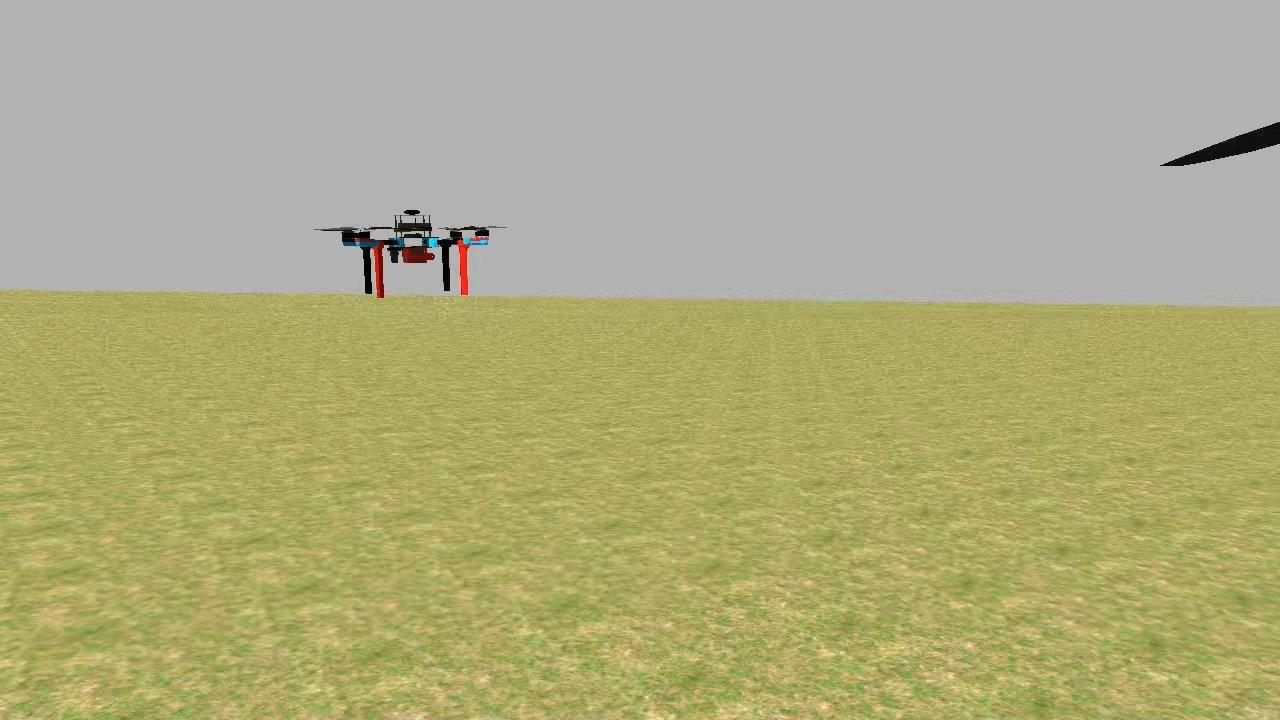UAV: (332, 203, 497, 308)
